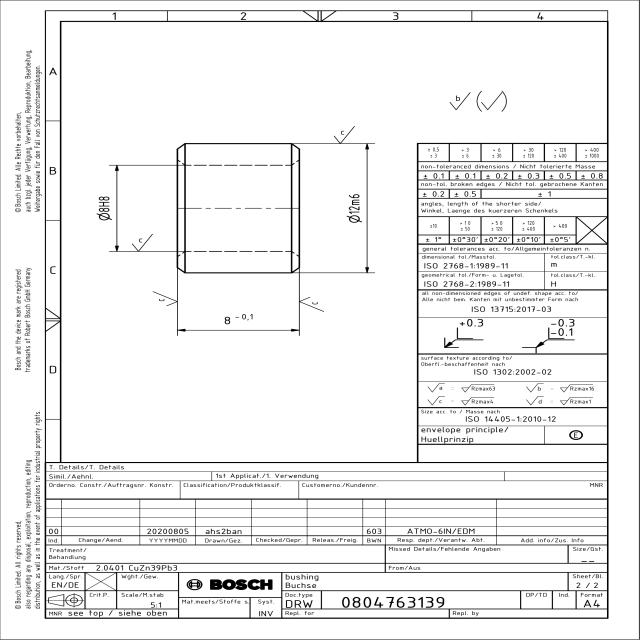dimension: (344, 191, 364, 224), (94, 195, 115, 222), (221, 312, 255, 326)
